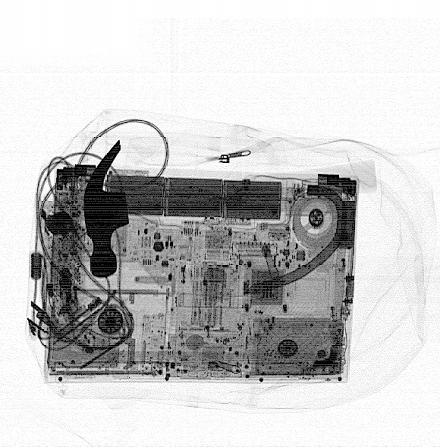Hammer: (84, 140, 377, 279)
